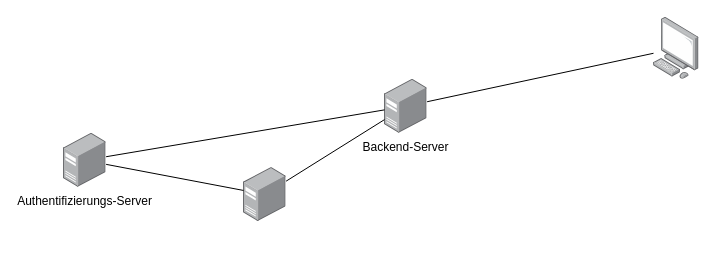
Image size: 716x259. Some labels were removed from this diagram. The centre of each missing label's shape, as x and y in pixels:
Datenbank-Server: (264,194)
Nutzer: (676,48)
